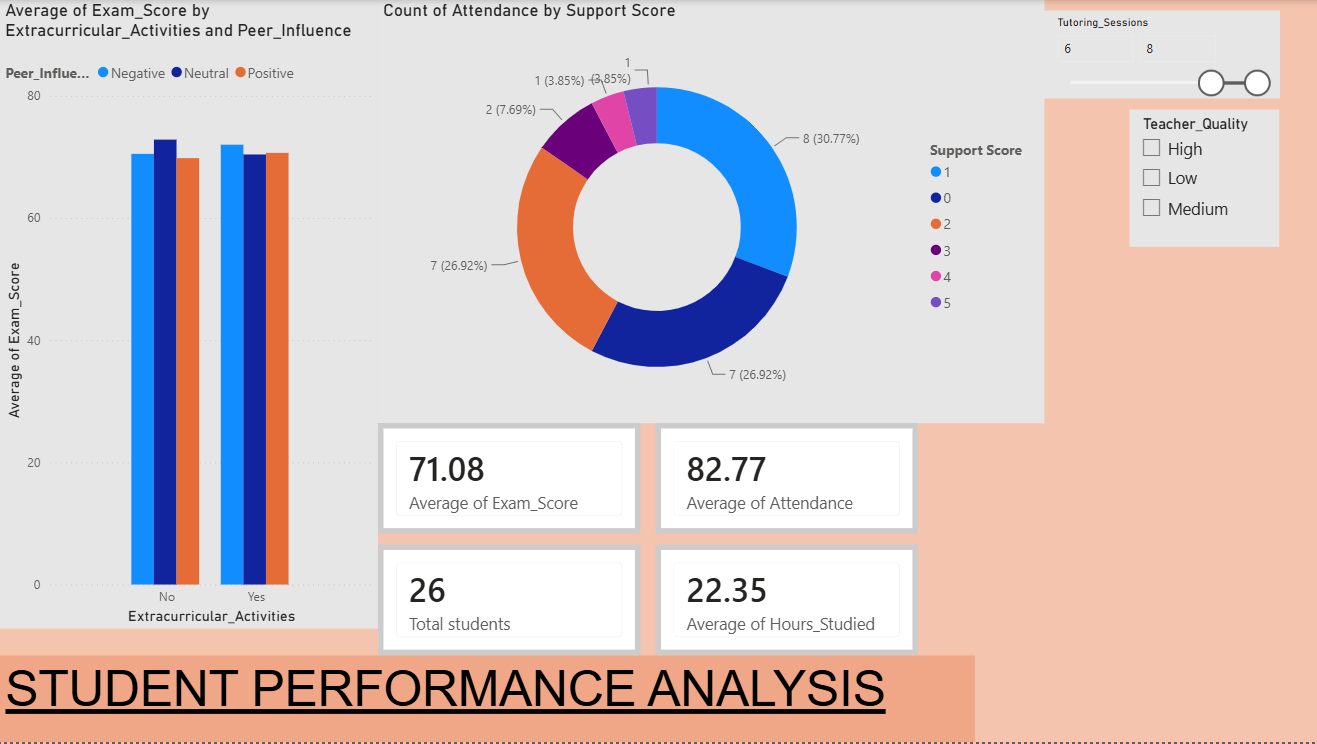

This screenshot's page, from the dashboard's own definition file:
{"tool":"powerbi","page":{"name":"Page 2","canvas":[1280,720],"ordinal":1},"visuals":[{"type":"slicer","fields":{"Values":["StudentPerformanceFactors.Teacher_Quality"]},"box":[1096,106.3,145.4,133.3],"z":0},{"type":"slicer","fields":{"Values":["StudentPerformanceFactors.Tutoring_Sessions"]},"box":[1013.1,10.2,228.5,84.4],"z":1000},{"type":"clusteredColumnChart","fields":{"Category":["StudentPerformanceFactors.Extracurricular_Activities"],"Series":["StudentPerformanceFactors.Peer_Influence"],"Y":["Avg(StudentPerformanceFactors.Exam_Score)"]},"box":[0,0,366.4,610.2],"z":2000},{"type":"donutChart","fields":{"Category":["StudentPerformanceFactors.Support Score"],"Y":["CountNonNull(StudentPerformanceFactors.Attendance)"]},"box":[366.4,0,646.6,410.3],"z":3000},{"type":"cardVisual","fields":{"Data":["Avg(StudentPerformanceFactors.Exam_Score)"]},"box":[366.9,410.4,255,107.3],"z":4000},{"type":"cardVisual","fields":{"Data":["Avg(StudentPerformanceFactors.Attendance)"]},"box":[635.9,410.4,255,107.3],"z":5000},{"type":"cardVisual","fields":{"Data":["Avg(StudentPerformanceFactors.Hours_Studied)"]},"box":[635.9,528.6,255,107.3],"z":6000},{"type":"cardVisual","fields":{"Data":["CountNonNull(StudentPerformanceFactors.Attendance)"]},"box":[366.9,528.6,254.7,107.7],"z":7000},{"type":"textbox","box":[0,636.1,946.1,84.4],"z":7001}]}

Visuals, with their boxes in screenshot pixels (x1, y1, x2, y2), scaled from the page's 1280x720 canvas onto the 1317x744 screenshot:
slicer - StudentPerformanceFactors.Teacher_Quality: {"x1": 1128, "y1": 110, "x2": 1277, "y2": 248}
slicer - StudentPerformanceFactors.Tutoring_Sessions: {"x1": 1042, "y1": 11, "x2": 1277, "y2": 98}
clusteredColumnChart - StudentPerformanceFactors.Extracurricular_Activities x StudentPerformanceFactors.Peer_Influence: {"x1": 0, "y1": 0, "x2": 377, "y2": 631}
donutChart - StudentPerformanceFactors.Support Score x CountNonNull(StudentPerformanceFactors.Attendance): {"x1": 377, "y1": 0, "x2": 1042, "y2": 424}
cardVisual - Avg(StudentPerformanceFactors.Exam_Score): {"x1": 378, "y1": 424, "x2": 640, "y2": 535}
cardVisual - Avg(StudentPerformanceFactors.Attendance): {"x1": 654, "y1": 424, "x2": 917, "y2": 535}
cardVisual - Avg(StudentPerformanceFactors.Hours_Studied): {"x1": 654, "y1": 546, "x2": 917, "y2": 657}
cardVisual - CountNonNull(StudentPerformanceFactors.Attendance): {"x1": 378, "y1": 546, "x2": 640, "y2": 658}
textbox: {"x1": 0, "y1": 657, "x2": 973, "y2": 743}
